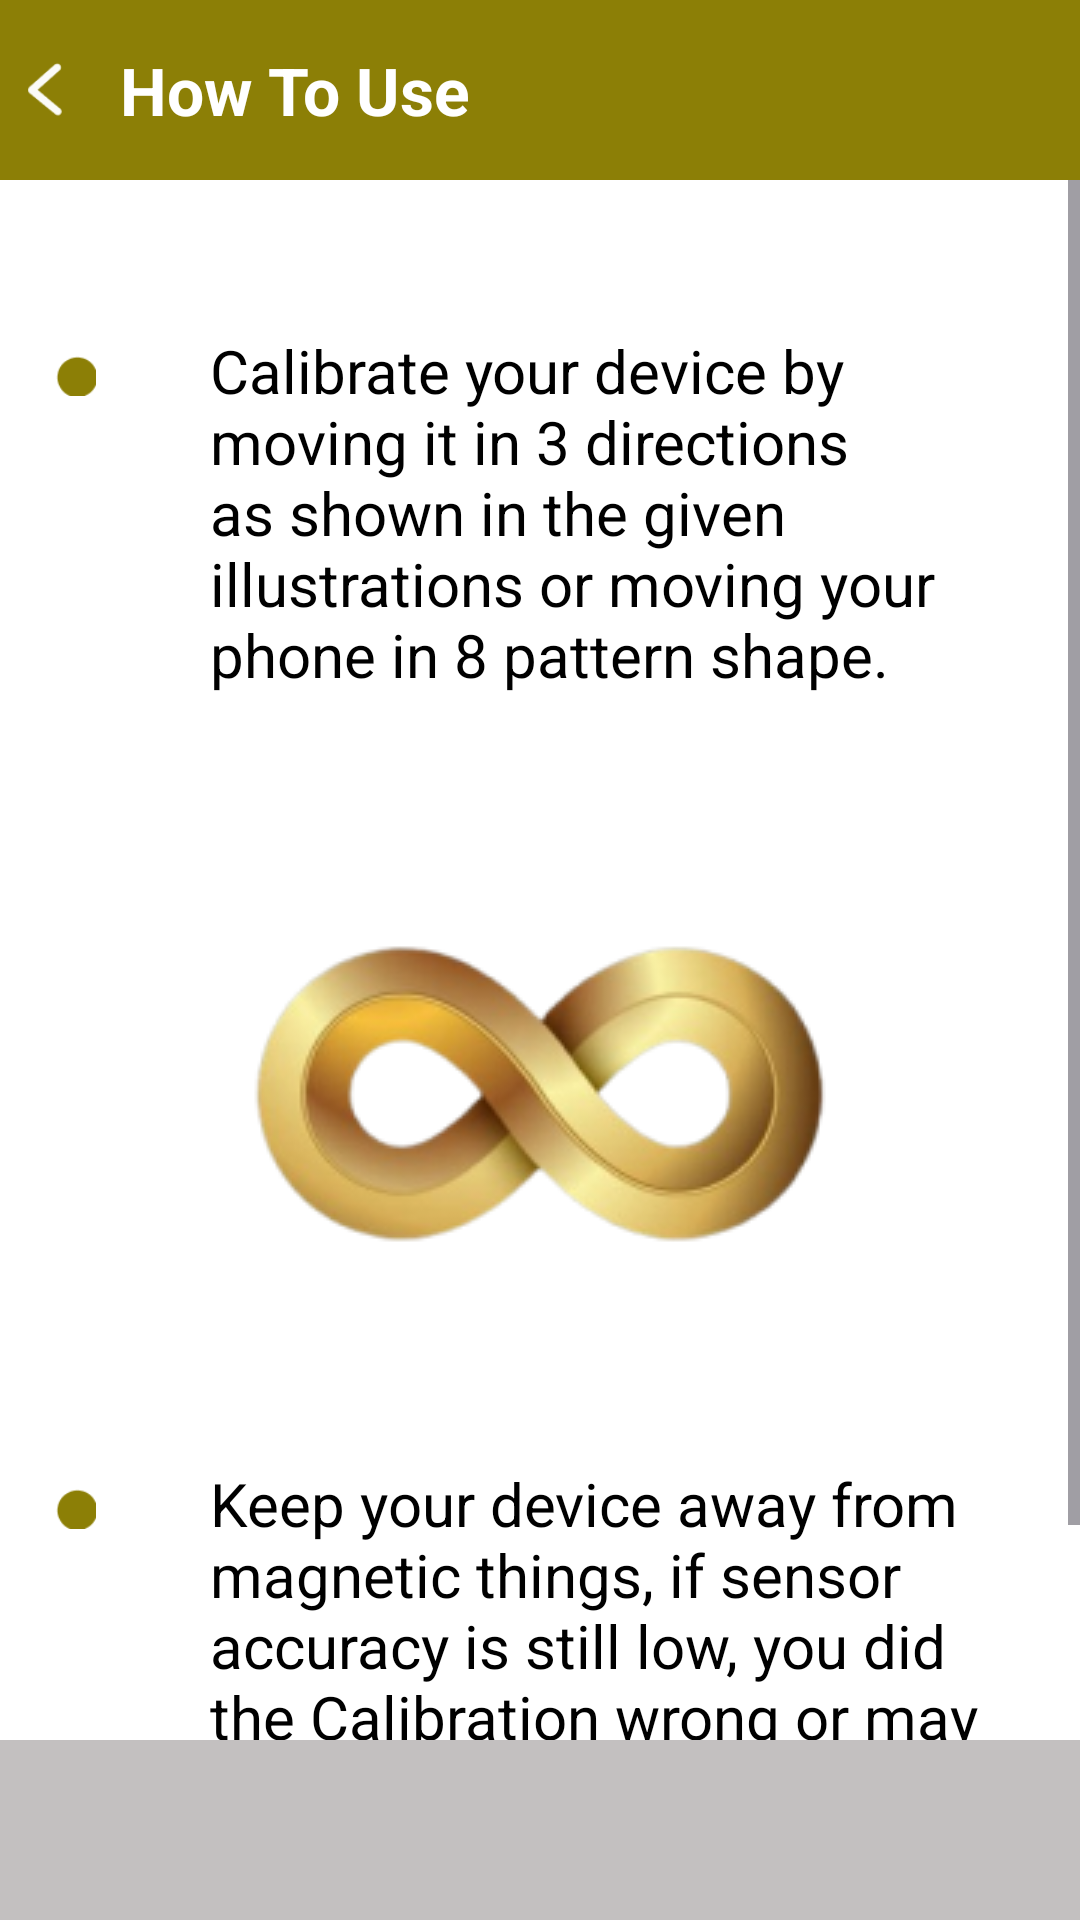

Named icons in this screenshot (1080×1920) and their centers, (x,y):
back: (45,89)
